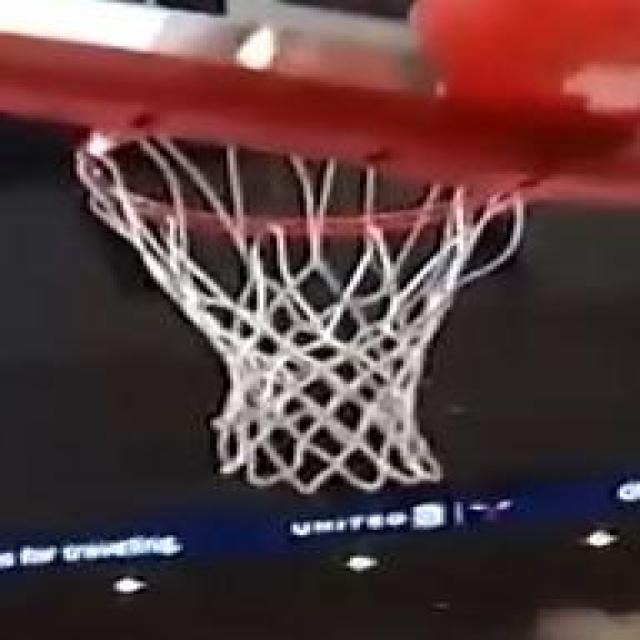hoop: (36, 90, 595, 515)
